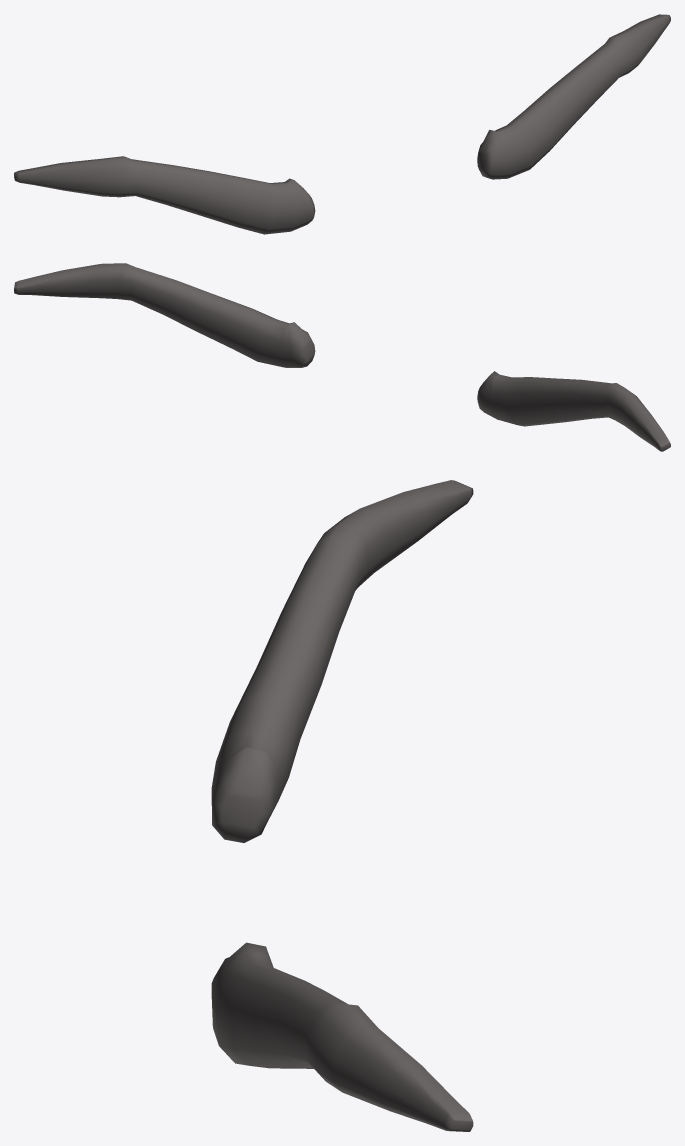
Rendered from Eyebrows_16_04.fbx.
The picture shows the model from 3 angles, top to bottom: view 1: azimuth 30°, elevation 25°; view 2: azimuth 150°, elevation 25°; view 3: azimuth 270°, elevation 25°; orthographic projection. The views are drawn at different scales.
Visible parts, largest first — view 1: Eyebrows_16_04; view 2: Eyebrows_16_04; view 3: Eyebrows_16_04.
Part boxes in pixels (x1,y1,x2,y2): Eyebrows_16_04: (14,14,670,234); Eyebrows_16_04: (14,263,670,451); Eyebrows_16_04: (211,480,473,1131).
Bounding box in the file's own units: 18.79 × 2.42 × 3.25.
